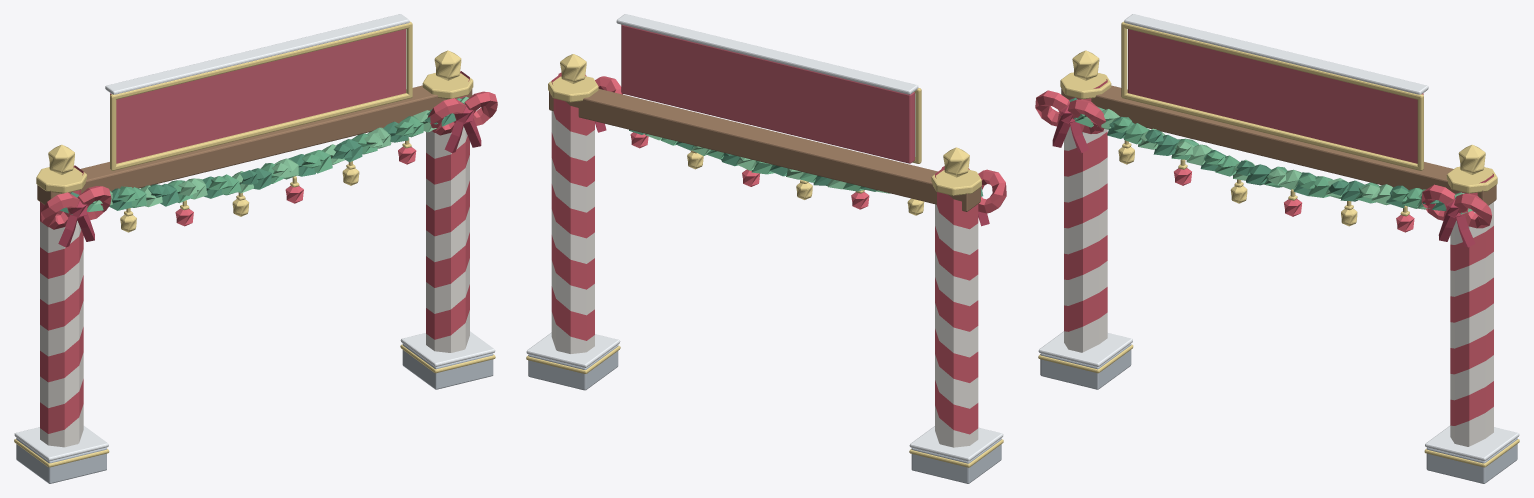
File: YardArch.glb
3 renders of one model, left to right at view 1: azimuth 30°, elevation 25°; view 2: azimuth 150°, elevation 25°; view 3: azimuth 330°, elevation 25°, orthographic.
Parts seen in each view (by area): view 1: Arch_Board, Arch_Red, Arch_Gold, Arch_White, Arch_Wood, Arch_Snow, Arch_Stone, Arch_GreenDark, Arch_Green, Arch_GreenLight, Arch_RedDark; view 2: Arch_Board, Arch_Red, Arch_Wood, Arch_White, Arch_Snow, Arch_Gold, Arch_Stone, Arch_GreenLight, Arch_Green, Arch_GreenDark; view 3: Arch_Board, Arch_Red, Arch_Gold, Arch_White, Arch_Wood, Arch_Snow, Arch_Stone, Arch_Green, Arch_GreenDark, Arch_GreenLight, Arch_RedDark.
Boxes of the visible parts, x1,y1,x2,y2 form: Arch_Board: (110,29,405,163); Arch_Red: (40,71,497,433); Arch_Gold: (14,21,495,467); Arch_White: (40,126,469,447); Arch_Wood: (37,85,472,204); Arch_Snow: (14,14,495,461); Arch_Stone: (16,343,493,483); Arch_GreenDark: (60,109,455,214); Arch_Green: (87,98,461,211); Arch_GreenLight: (94,96,468,207); Arch_RedDark: (58,106,481,247); Arch_Board: (621,25,914,163); Arch_Red: (551,72,1006,434); Arch_Wood: (549,89,980,211); Arch_White: (551,111,978,447); Arch_Snow: (526,14,1003,461); Arch_Gold: (526,54,1003,467); Arch_Stone: (528,345,1001,483); Arch_GreenLight: (645,134,890,193); Arch_Green: (661,138,864,191); Arch_GreenDark: (629,129,983,196); Arch_Board: (1128,29,1423,163); Arch_Red: (1035,79,1493,425); Arch_Gold: (1038,21,1519,467); Arch_White: (1064,126,1493,446); Arch_Wood: (1061,85,1496,205); Arch_Snow: (1038,14,1519,461); Arch_Stone: (1040,343,1517,483); Arch_Green: (1075,107,1472,214); Arch_GreenDark: (1061,97,1446,210); Arch_GreenLight: (1083,106,1464,209); Arch_RedDark: (1052,104,1475,247).
Size of the model in its own units: 20.25 by 15.64 by 3.04.
